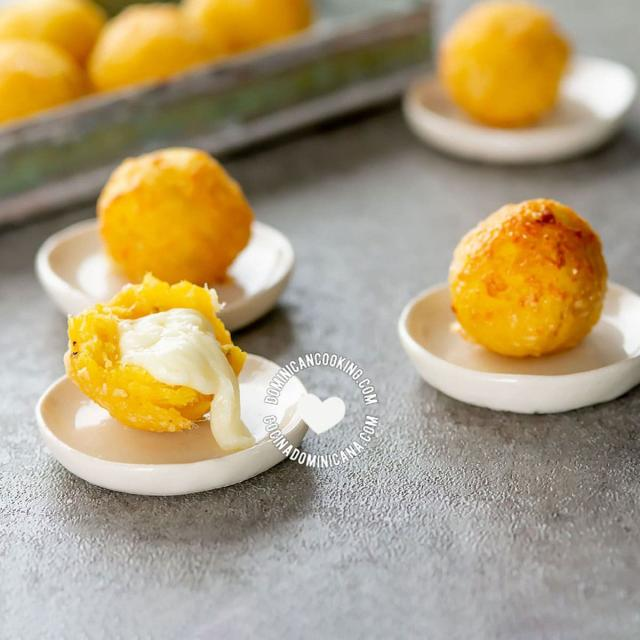papa: (436, 186, 625, 380), (89, 146, 267, 306)
